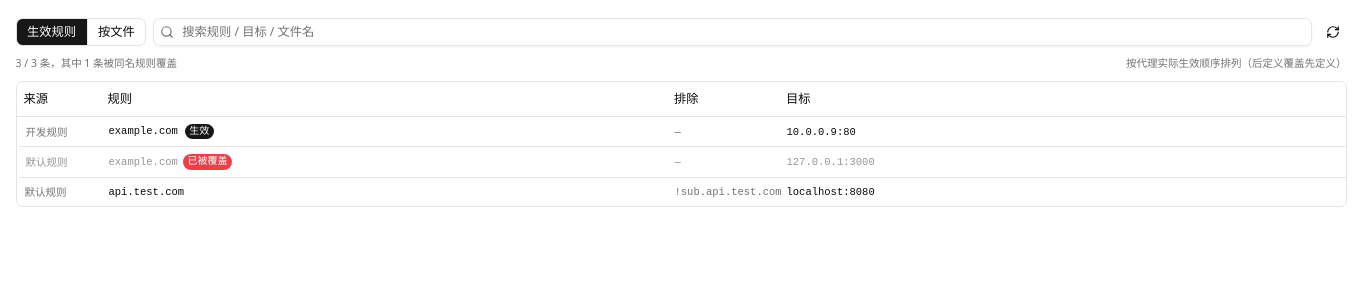
Scenario: RuleOverviewPanel › shows a no-match empty state with a clear action
The width and height of the screenshot is (1364, 292).
Type "no-such-thing" into the field labelled "搜索规则" at (732, 32), box x1=153 y1=18 x2=1312 y2=46
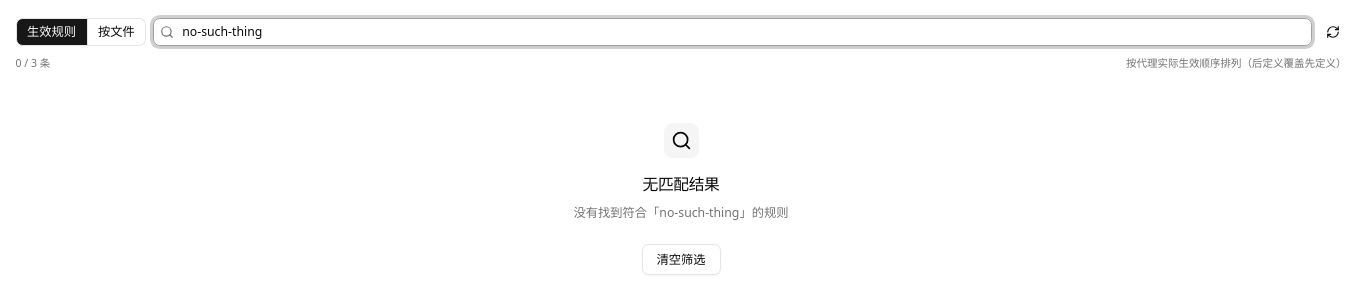
Check: the text "无匹配结果" is shown, box x1=643 y1=172 x2=719 y2=196
Click the button "清空筛选" at (681, 260), box x1=642 y1=244 x2=720 y2=275
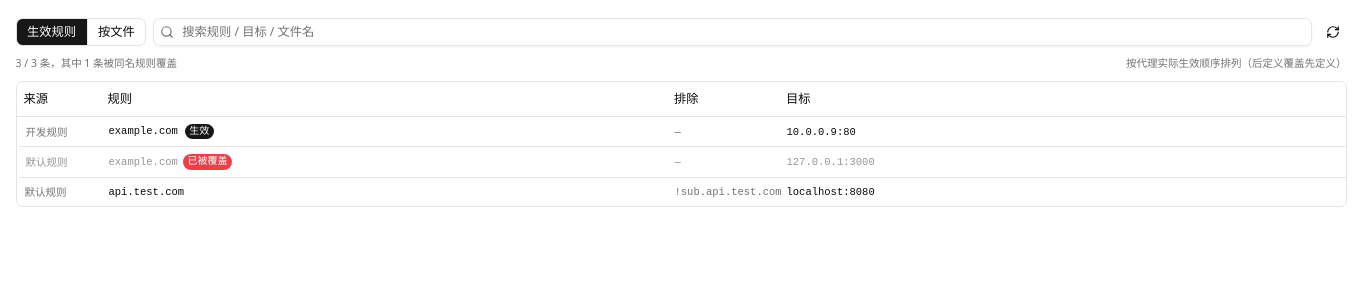
Check: the text "example.com" is shown, box x1=108 y1=125 x2=178 y2=137
